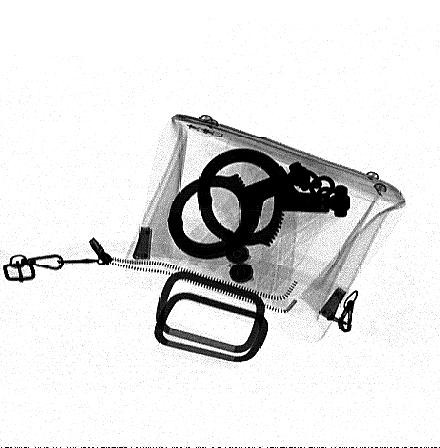HandCuffs: (168, 148, 351, 260)
